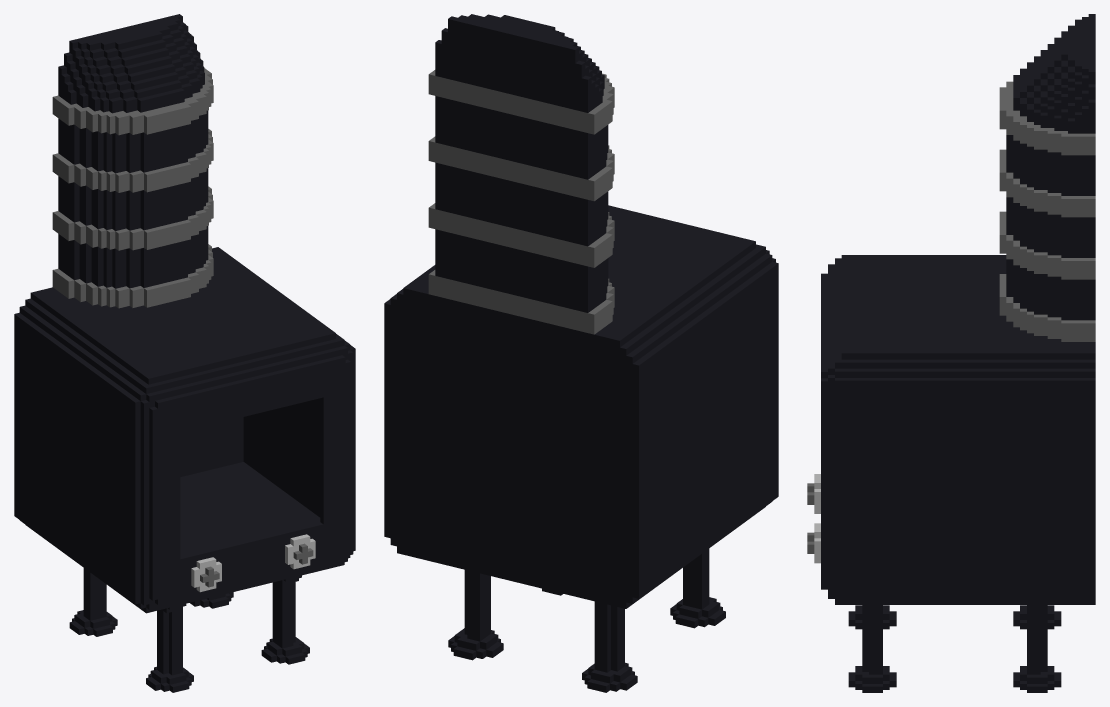
The model's file is Furnace.obj.
3 renders of one model, left to right at view 1: azimuth 30°, elevation 25°; view 2: azimuth 150°, elevation 25°; view 3: azimuth 270°, elevation 25°, orthographic. The views are drawn at different scales.
Visible parts, largest first — view 1: Furnace; view 2: Furnace; view 3: Furnace.
Boxes of the visible parts, x1,y1,x2,y2 form: Furnace: (14,14,355,692); Furnace: (384,14,778,692); Furnace: (807,14,1095,692).
Bounding box in the file's own units: 40 × 98 × 42.
Materials: 1 (1 with a texture image).
